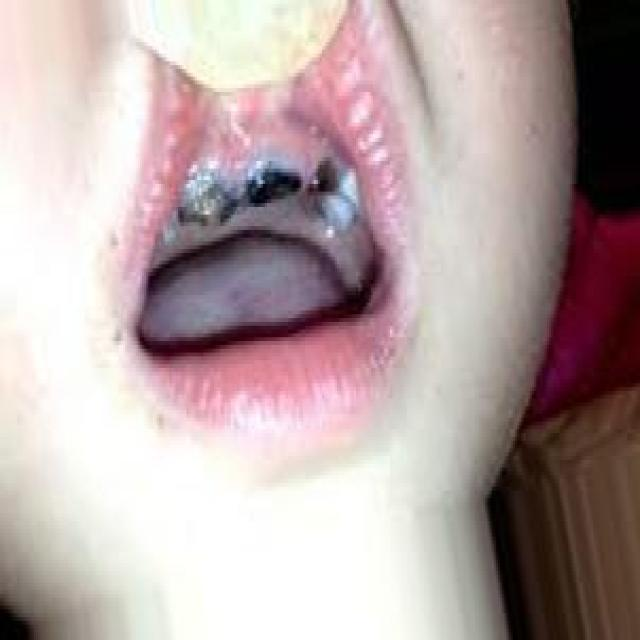caries: (172, 166, 244, 237), (244, 147, 306, 224), (310, 149, 359, 239)
